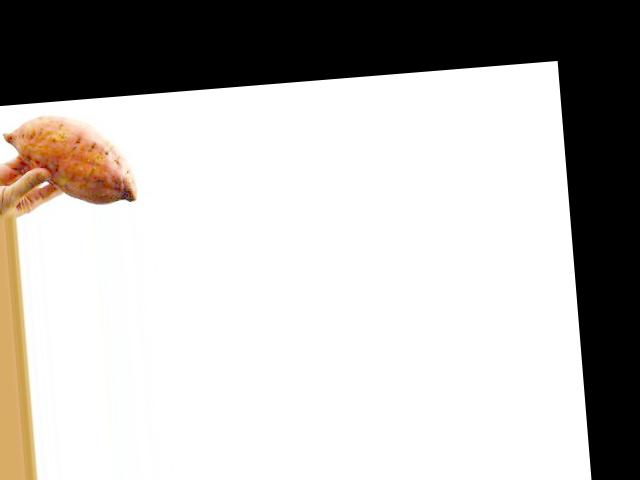sweet_potato: (5, 100, 141, 215)
